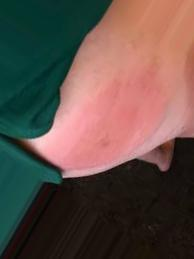Spider: (144, 35, 193, 82)
